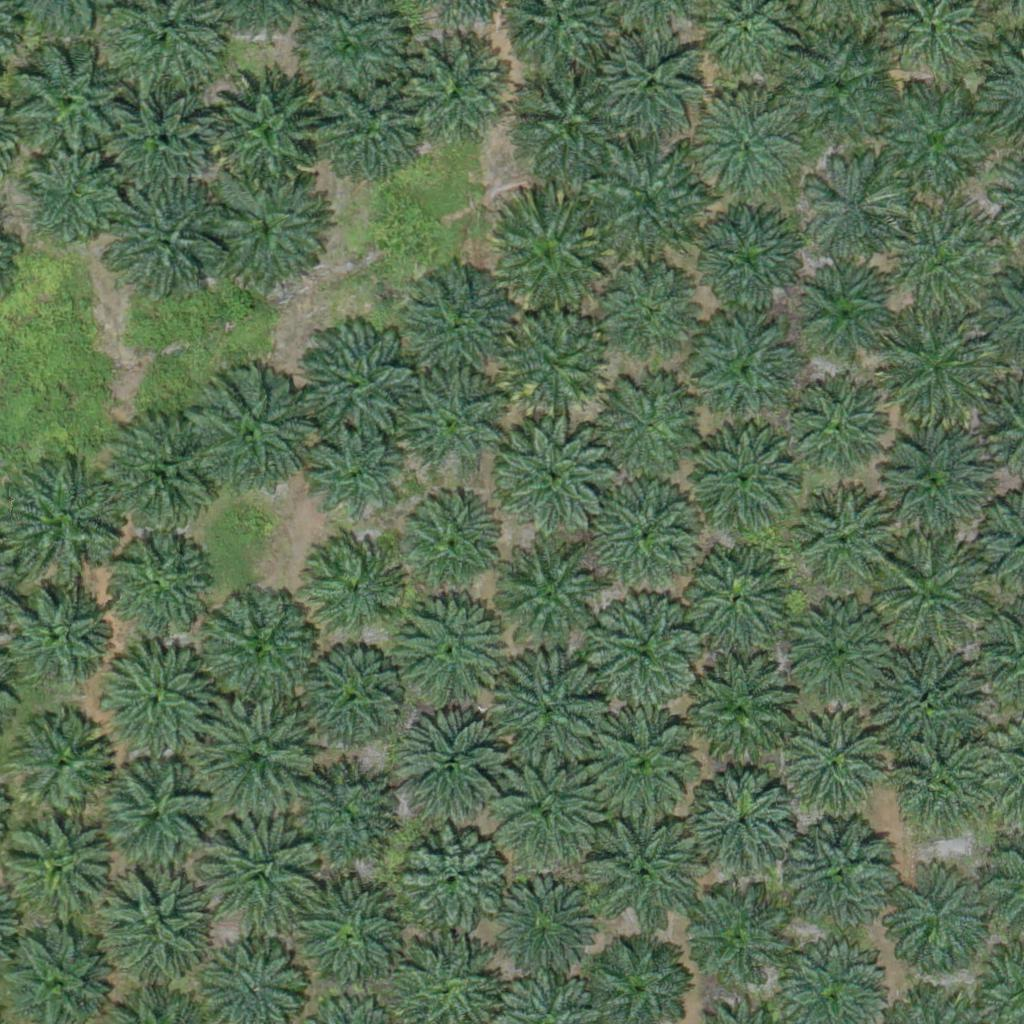Kelapa_Sawit: (3, 43, 128, 169), (103, 179, 228, 305), (202, 64, 327, 190), (206, 168, 331, 294), (293, 322, 418, 448), (187, 375, 312, 501), (4, 460, 129, 586), (194, 693, 319, 819), (196, 583, 321, 709), (91, 861, 216, 987), (198, 809, 323, 935), (486, 197, 611, 322), (17, 142, 130, 256), (106, 414, 219, 528), (879, 861, 992, 975), (309, 72, 422, 185), (596, 29, 709, 142), (692, 209, 805, 322), (877, 531, 990, 644), (869, 644, 982, 757), (778, 709, 891, 822), (682, 420, 795, 533), (500, 416, 613, 529), (497, 543, 610, 656), (491, 656, 604, 769), (390, 590, 503, 703), (490, 764, 603, 877), (584, 707, 697, 820), (96, 641, 209, 754), (95, 758, 208, 871), (588, 822, 701, 935), (484, 867, 597, 980), (782, 38, 894, 152), (877, 89, 989, 203), (882, 309, 994, 423), (391, 712, 503, 826), (785, 816, 897, 930), (5, 813, 117, 927), (101, 87, 213, 200), (400, 35, 512, 148), (511, 65, 623, 178), (593, 152, 705, 265), (881, 209, 993, 322), (875, 428, 987, 541), (678, 541, 790, 654), (685, 659, 797, 772), (591, 368, 703, 481), (592, 478, 704, 591), (590, 594, 702, 707), (688, 772, 800, 885), (680, 889, 792, 1002), (399, 825, 511, 938), (294, 879, 406, 992), (700, 94, 800, 195), (794, 265, 894, 366), (787, 376, 887, 477), (791, 483, 891, 584), (789, 600, 889, 701), (695, 318, 795, 419), (598, 261, 698, 362), (504, 311, 604, 412), (414, 273, 514, 374), (402, 371, 502, 472), (398, 492, 498, 593), (304, 424, 404, 525), (7, 583, 107, 684), (13, 711, 113, 812), (800, 162, 900, 262), (302, 539, 402, 639), (300, 648, 400, 748), (285, 771, 385, 871), (106, 532, 206, 632), (898, 748, 973, 823)
